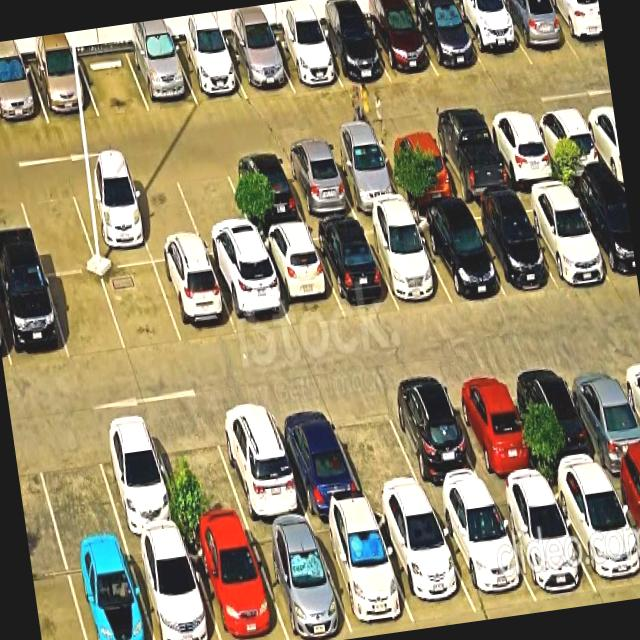car: (310, 510, 416, 638), (381, 379, 488, 501), (247, 521, 353, 640), (490, 485, 597, 602), (431, 493, 536, 612), (372, 504, 477, 622), (443, 370, 544, 491), (210, 401, 308, 525), (268, 398, 366, 516), (549, 473, 640, 599), (511, 361, 606, 481), (91, 420, 185, 541), (186, 528, 287, 640), (127, 536, 220, 640), (516, 187, 612, 286), (561, 356, 640, 472), (462, 200, 556, 295), (412, 208, 505, 304), (257, 228, 345, 329), (309, 221, 399, 318), (360, 215, 452, 308), (64, 544, 153, 640), (69, 176, 153, 269), (154, 257, 238, 344), (567, 180, 638, 282), (208, 250, 291, 335), (428, 123, 513, 201), (0, 273, 69, 369), (224, 153, 306, 232), (277, 146, 357, 223), (325, 139, 405, 214), (452, 1, 533, 74), (377, 131, 459, 203), (483, 114, 561, 188), (531, 107, 608, 179), (409, 6, 486, 77), (495, 0, 579, 65), (364, 10, 438, 83), (316, 19, 391, 87), (126, 44, 198, 112), (173, 41, 247, 106), (29, 56, 99, 124), (269, 29, 342, 92), (225, 35, 294, 99), (545, 0, 606, 58), (0, 63, 48, 130), (606, 466, 640, 548)
free: (150, 415, 248, 535), (31, 427, 124, 552), (326, 390, 427, 505), (173, 160, 257, 256), (17, 182, 97, 275), (125, 170, 205, 262), (101, 263, 182, 353), (47, 271, 126, 361), (78, 50, 149, 117)
